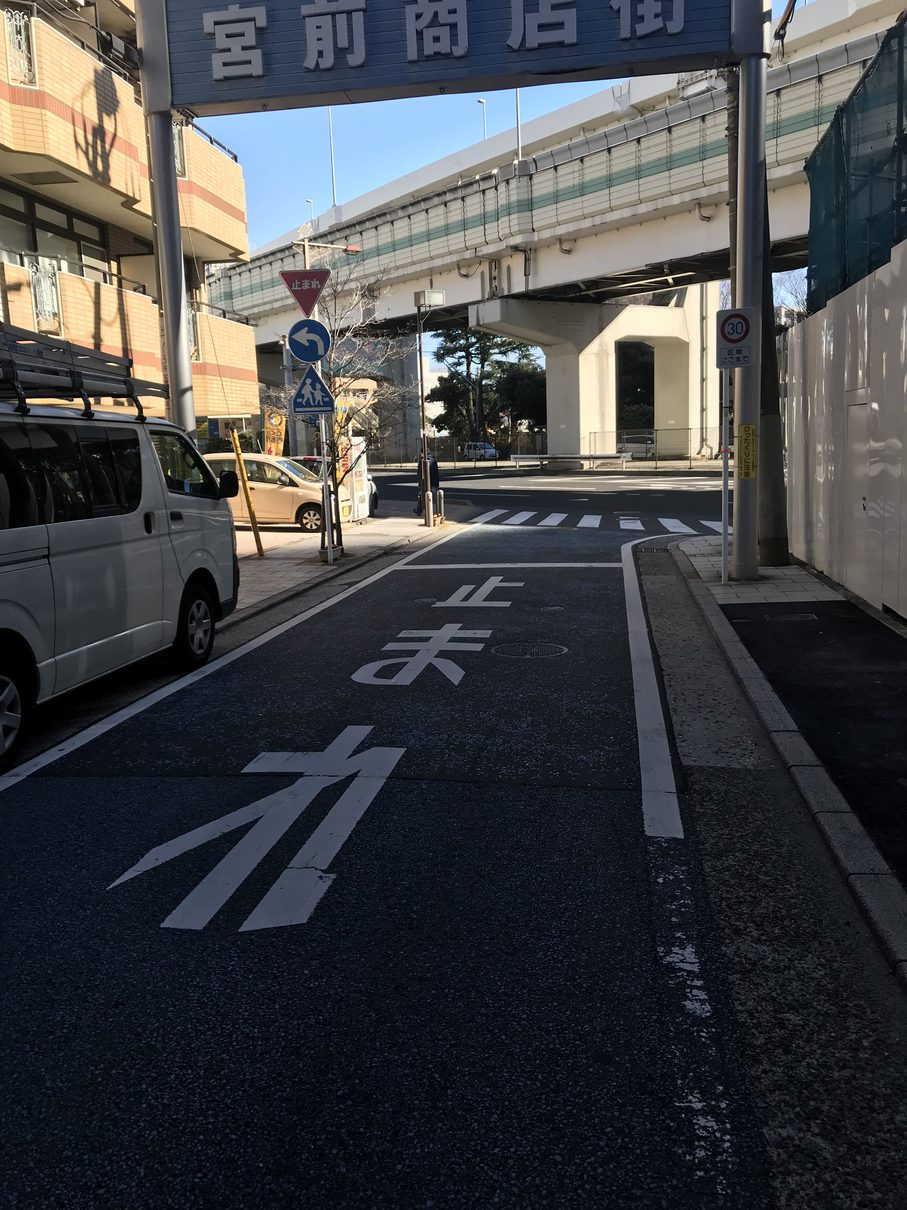stop_sign: (276, 264, 331, 318)
